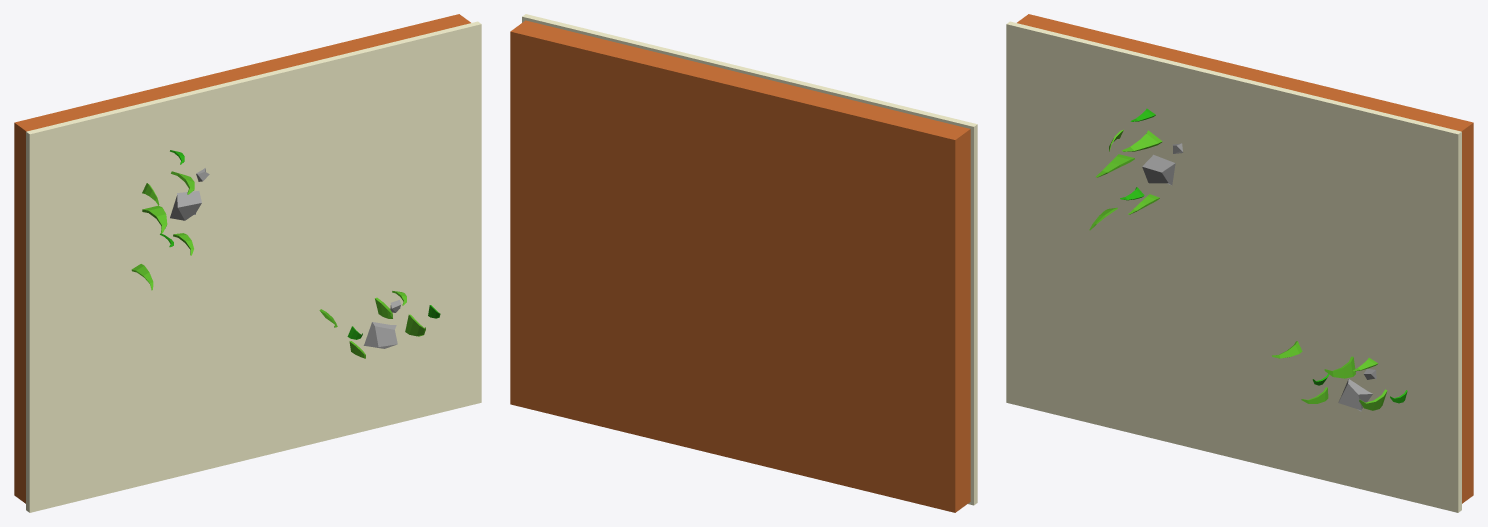
File: road.gltf
3 views of the same model, side by side, from view 1: azimuth 30°, elevation 25°; view 2: azimuth 150°, elevation 25°; view 3: azimuth 330°, elevation 25° (orthographic).
Visible parts, largest first — view 1: Cube.007, Cube, Cube.012, Cube.009; view 2: Cube, Cube.007; view 3: Cube.007, Cube, Cube.009, Cube.012.
Part boxes in pixels (x1,y1,x2,y2): Cube.007: (26, 21, 481, 512); Cube: (14, 14, 470, 503); Cube.012: (363, 322, 397, 348); Cube.009: (170, 191, 201, 220); Cube: (510, 20, 970, 512); Cube.007: (522, 14, 977, 505); Cube.007: (1006, 21, 1461, 512); Cube: (1017, 14, 1473, 503); Cube.009: (1142, 154, 1175, 185); Cube.012: (1338, 379, 1372, 411).
Size of the model in its own units: 2.03 by 1.63 by 0.3116.
